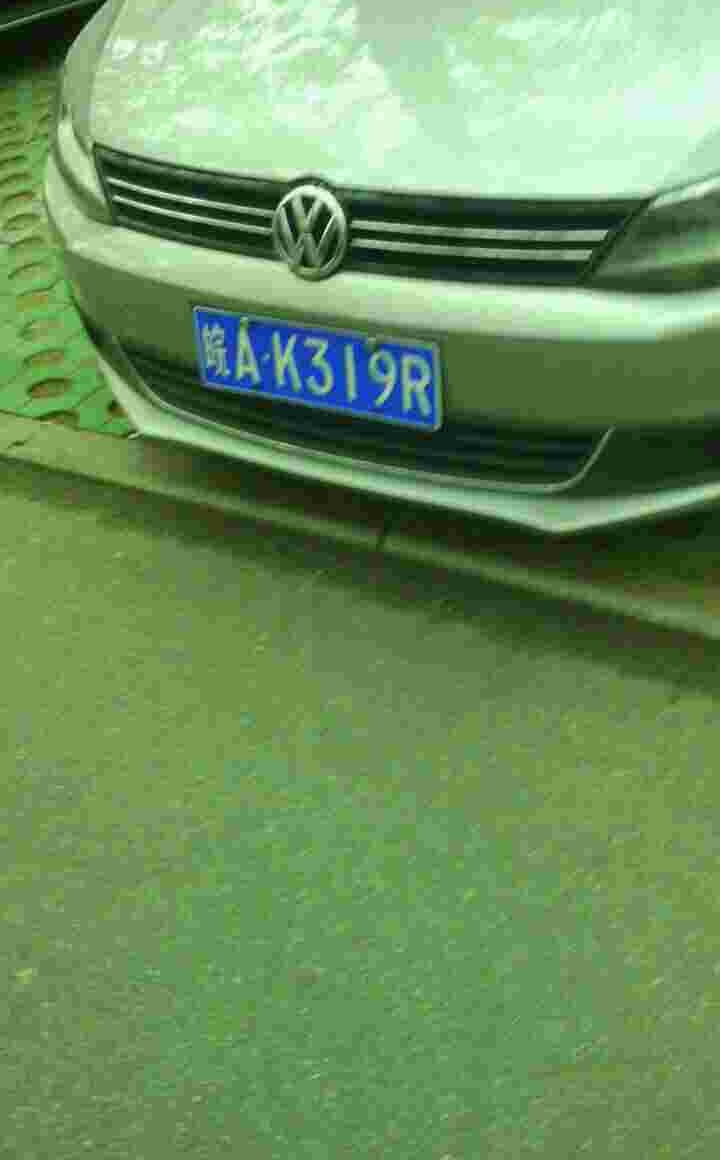license_plate: (188, 310, 447, 436)
